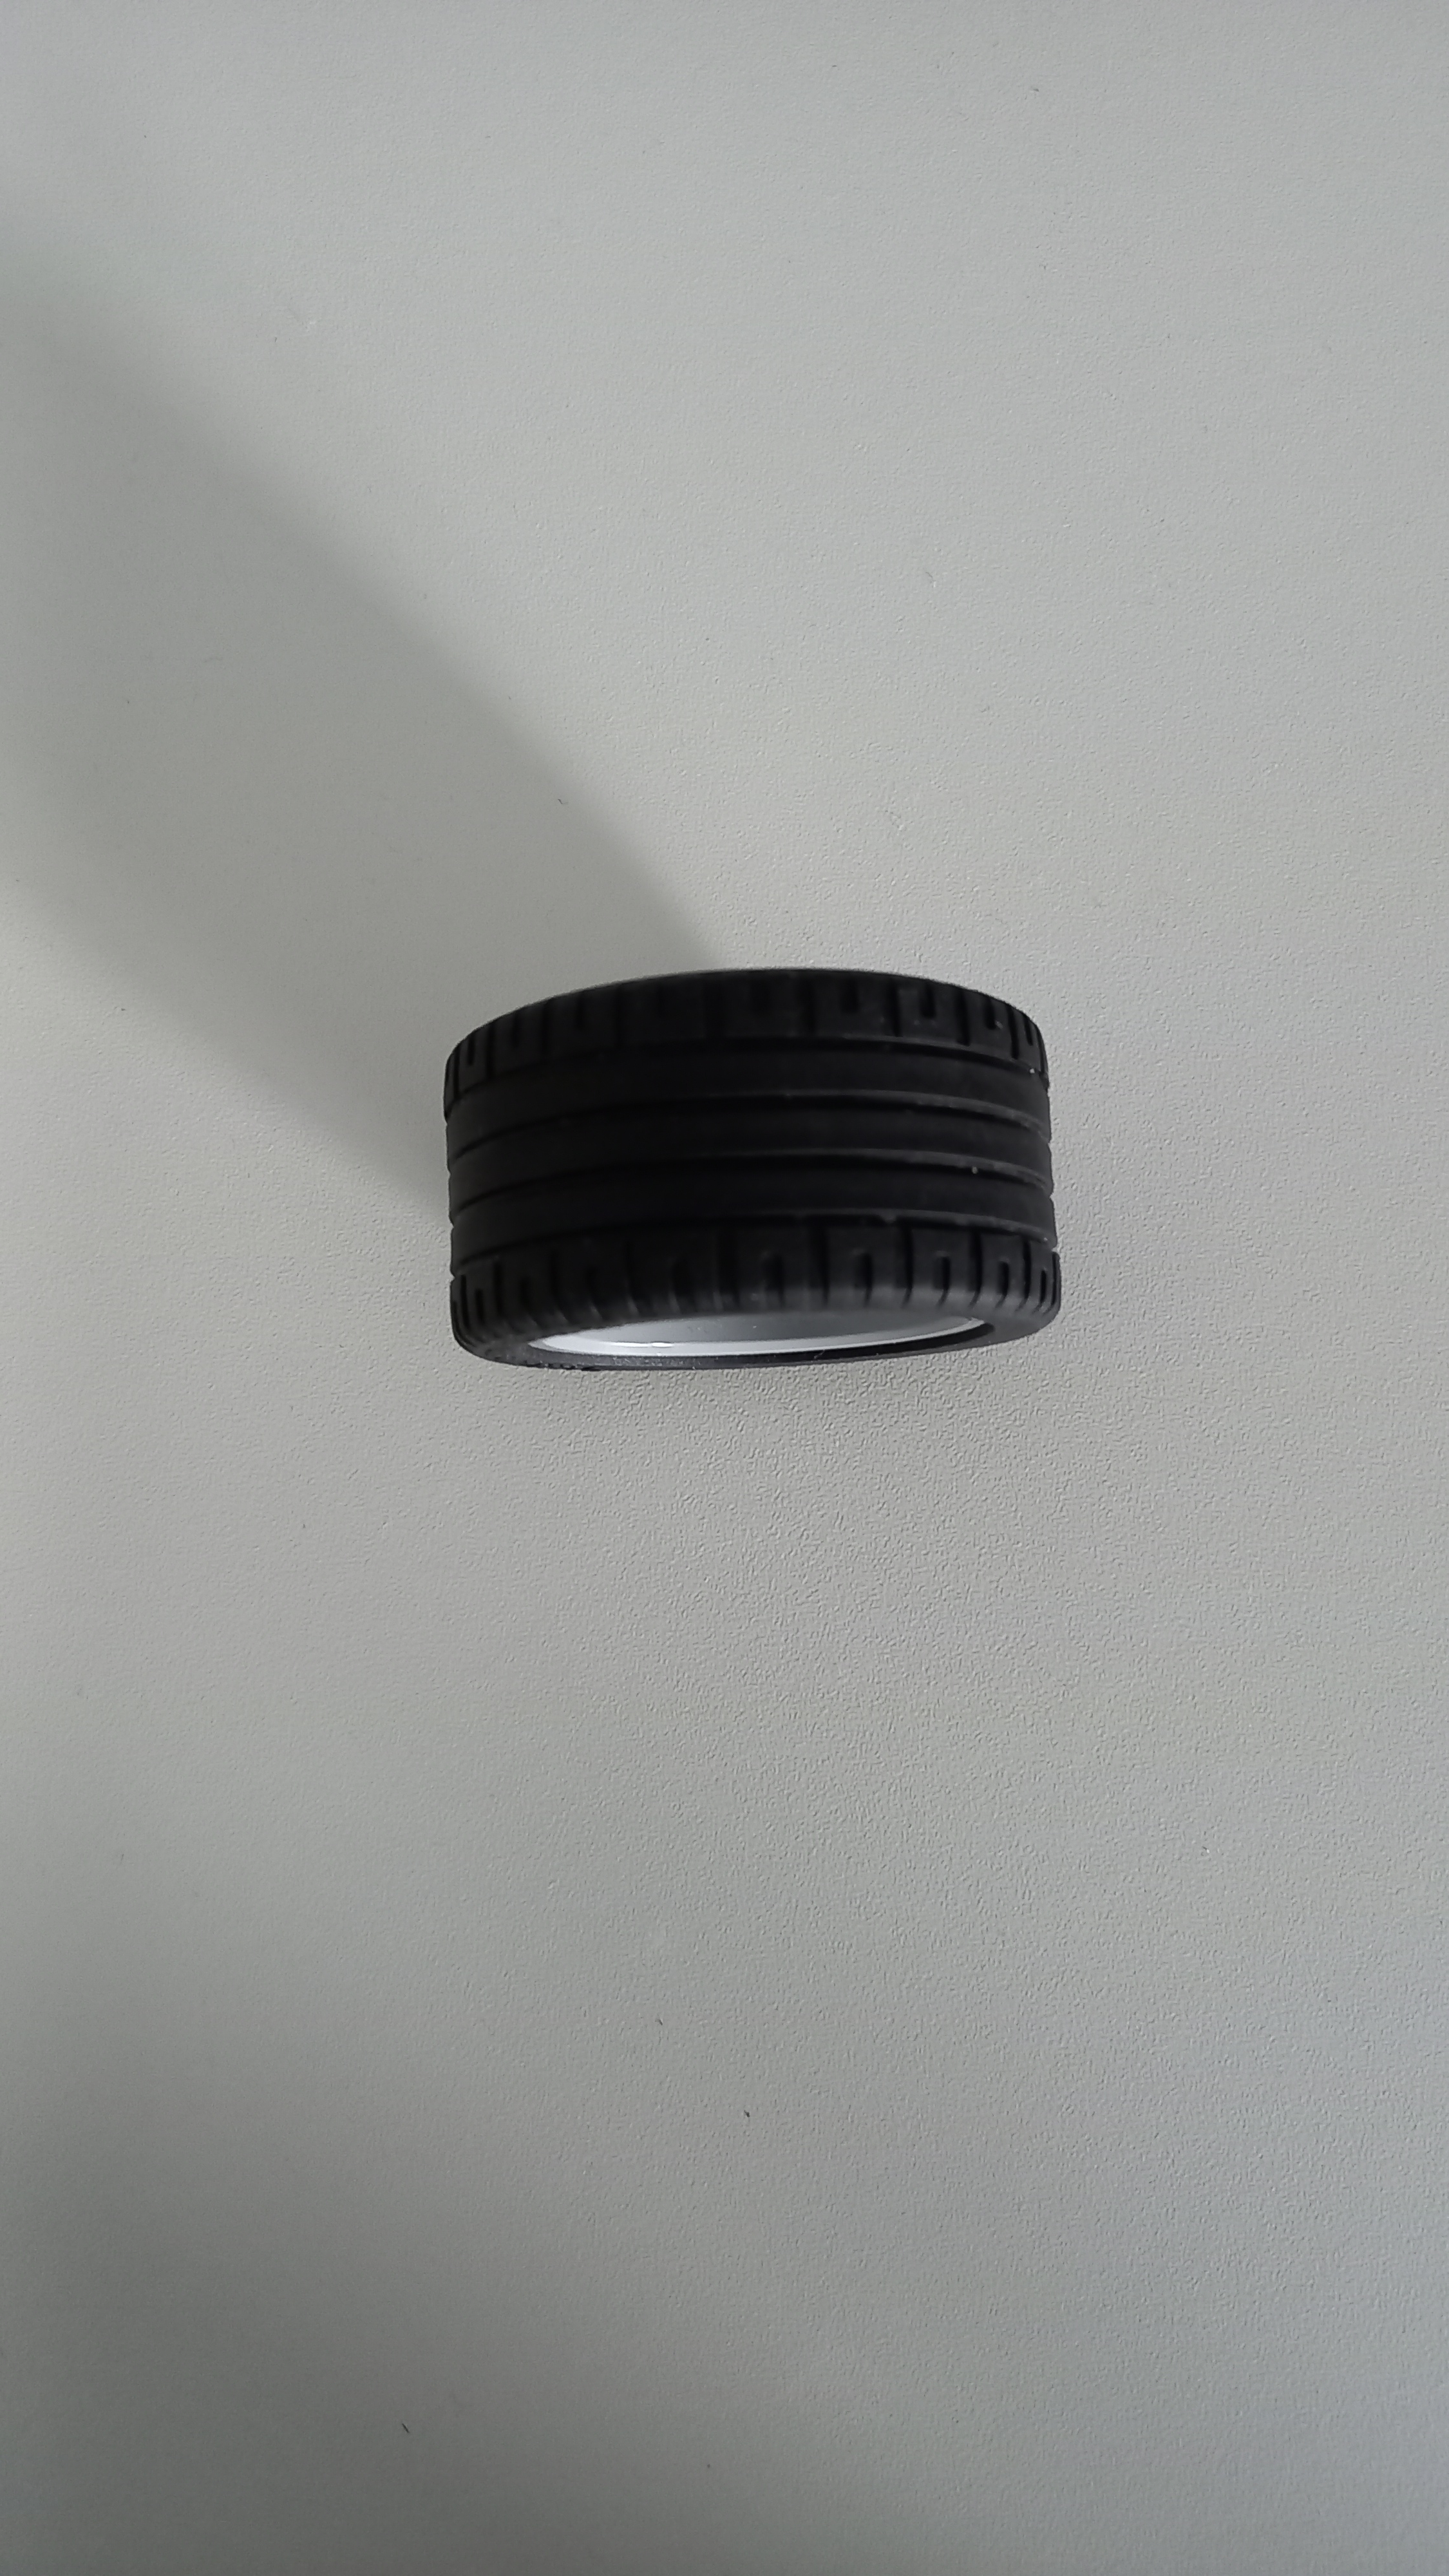Rad: (432, 943, 1093, 1401)
